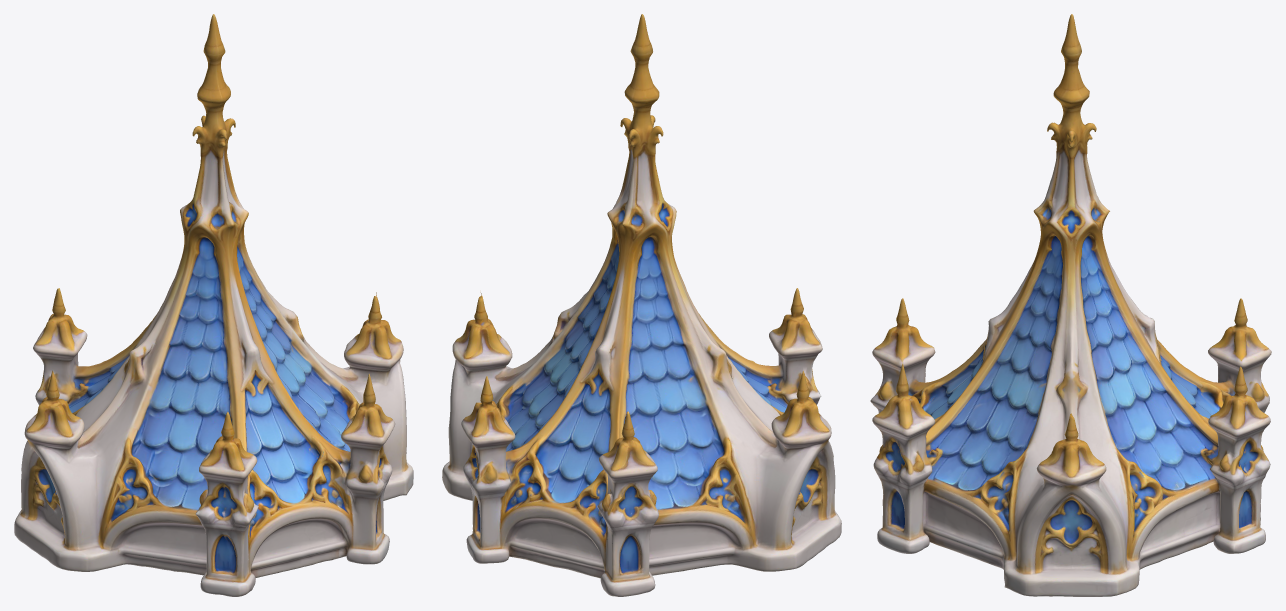
3 views of the same model, side by side, from view 1: azimuth 30°, elevation 25°; view 2: azimuth 150°, elevation 25°; view 3: azimuth 270°, elevation 25° (orthographic).
Visible parts, largest first — view 1: tripo_node_7367533b-aff8-428f-abd9-208193270475; view 2: tripo_node_7367533b-aff8-428f-abd9-208193270475; view 3: tripo_node_7367533b-aff8-428f-abd9-208193270475.
Boxes of the visible parts, bbox=[...] form: tripo_node_7367533b-aff8-428f-abd9-208193270475: bbox=[14, 14, 413, 596]; tripo_node_7367533b-aff8-428f-abd9-208193270475: bbox=[442, 14, 841, 596]; tripo_node_7367533b-aff8-428f-abd9-208193270475: bbox=[870, 14, 1271, 596].
Size of the model in its own units: 0.7695 by 0.9709 by 0.7109.
1 material, 1 textured.
